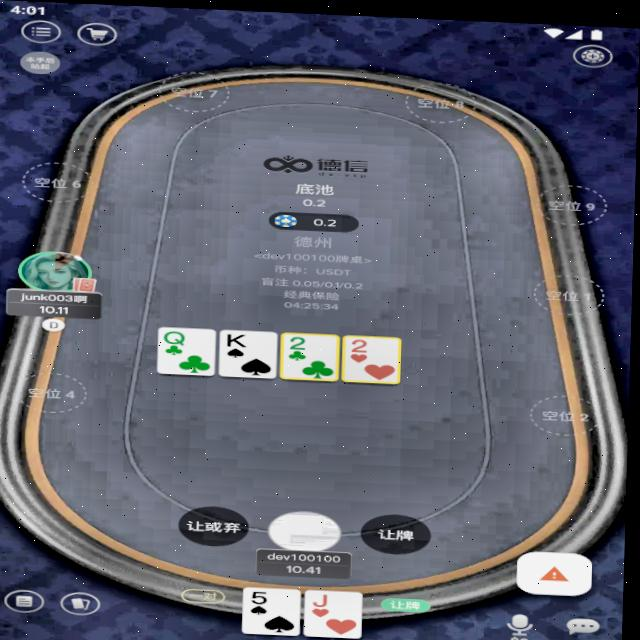2h: (350, 333, 373, 351)
2m: (285, 331, 317, 349)
5s: (249, 587, 278, 604)
Jh: (312, 589, 339, 606)
Ks: (226, 329, 250, 346)
Qm: (164, 327, 189, 344)
